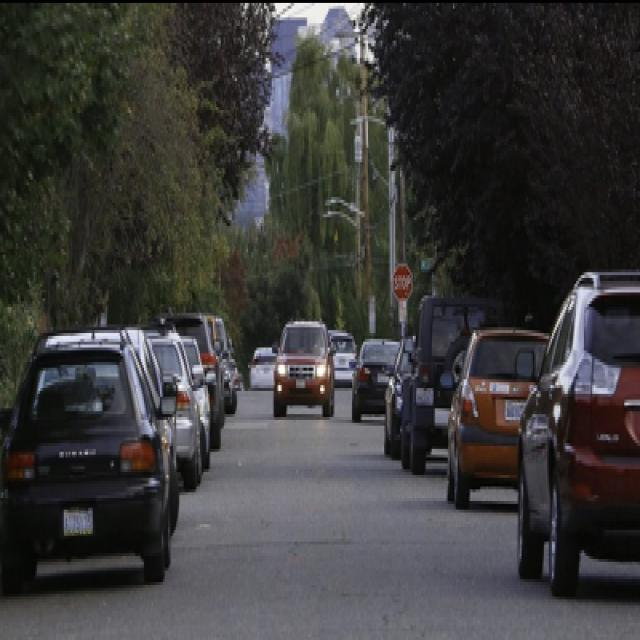licence: (56, 504, 98, 536)
